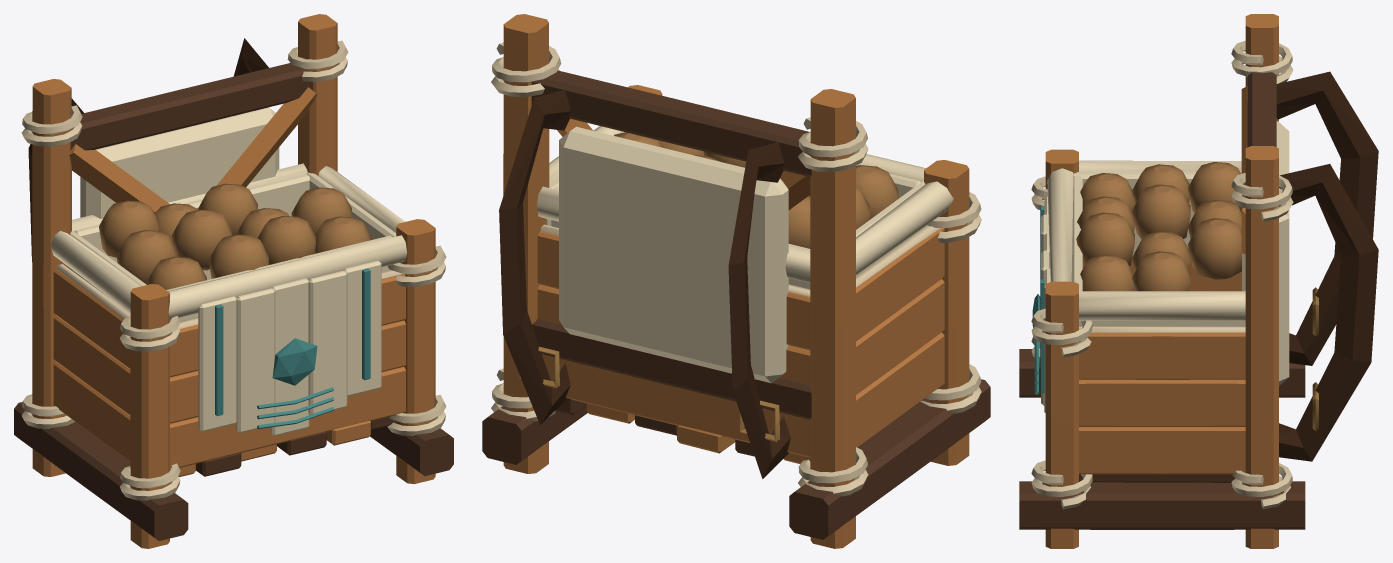
File: prop_trade_pack_potato_a.glb
3 views of the same model, side by side, from view 1: azimuth 30°, elevation 25°; view 2: azimuth 150°, elevation 25°; view 3: azimuth 270°, elevation 25° (orthographic). The views are drawn at different scales.
Visible parts, largest first — view 1: prop_trade_pack_potato_a_LOD0; view 2: prop_trade_pack_potato_a_LOD0; view 3: prop_trade_pack_potato_a_LOD0.
Part boxes in pixels (x1,y1,x2,y2): prop_trade_pack_potato_a_LOD0: [14, 14, 453, 548]; prop_trade_pack_potato_a_LOD0: [482, 14, 990, 548]; prop_trade_pack_potato_a_LOD0: [1019, 14, 1378, 548].
Size of what is drawn, in the model's own units: 0.8384 by 0.96 by 0.8041.
